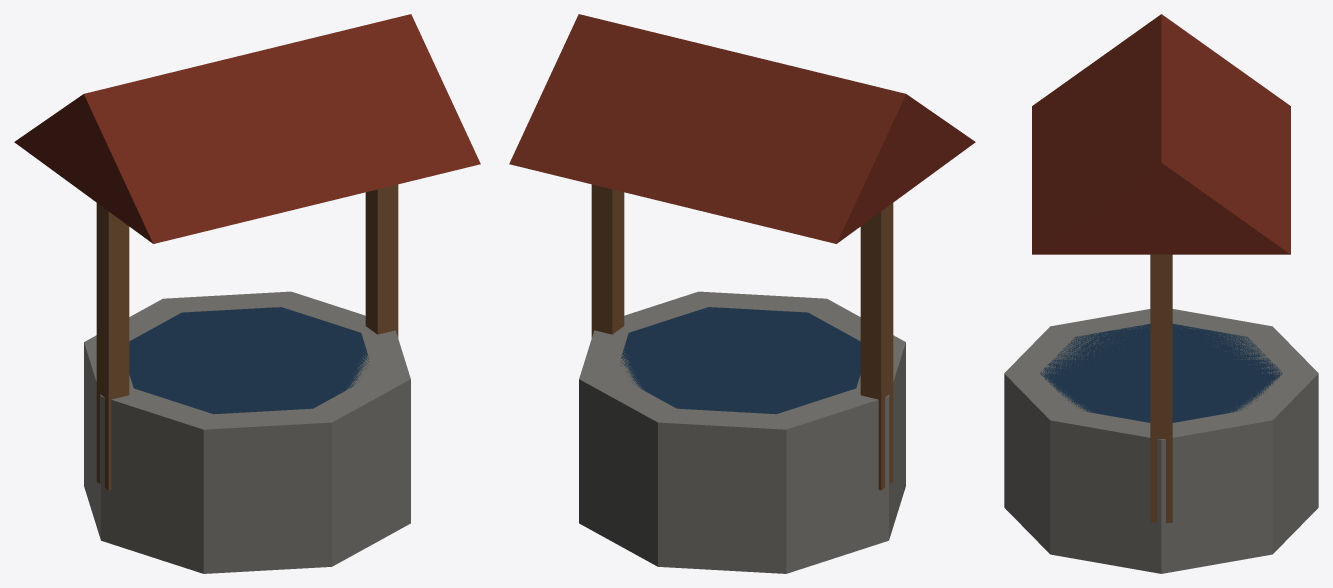
File: well.glb
The picture shows the model from 3 angles, left to right: view 1: azimuth 30°, elevation 25°; view 2: azimuth 150°, elevation 25°; view 3: azimuth 270°, elevation 25°; orthographic projection. The views are drawn at different scales.
Visible parts, largest first — view 1: well; view 2: well; view 3: well.
Boxes of the visible parts, left/top/right/bottom form: well: left=14, top=14, right=480, bottom=573; well: left=509, top=14, right=975, bottom=573; well: left=1004, top=14, right=1318, bottom=573.
Size of the model in its own units: 1.9 by 2.5 by 1.7.
